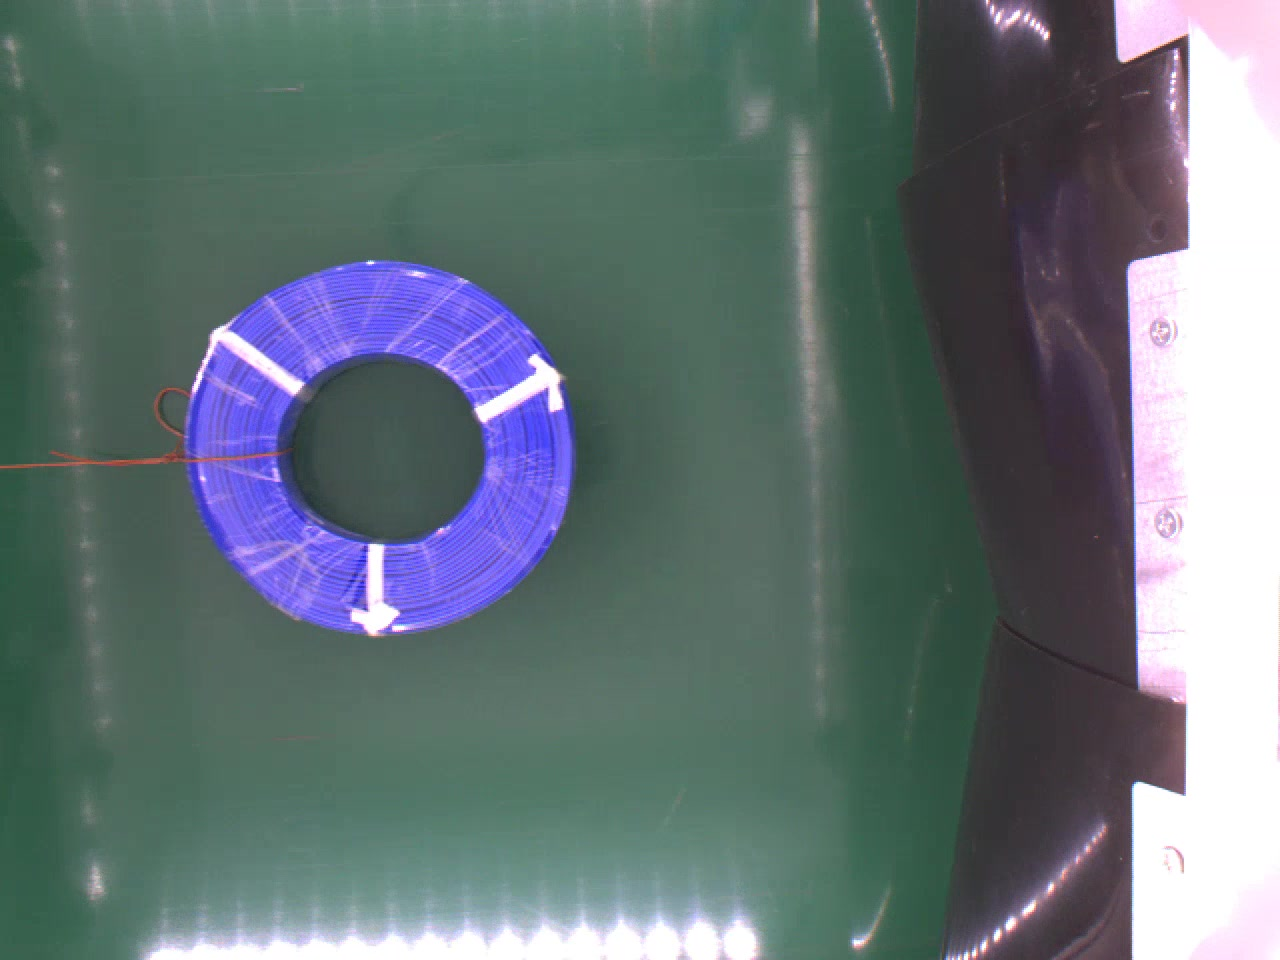blue: (186, 263, 567, 632)
